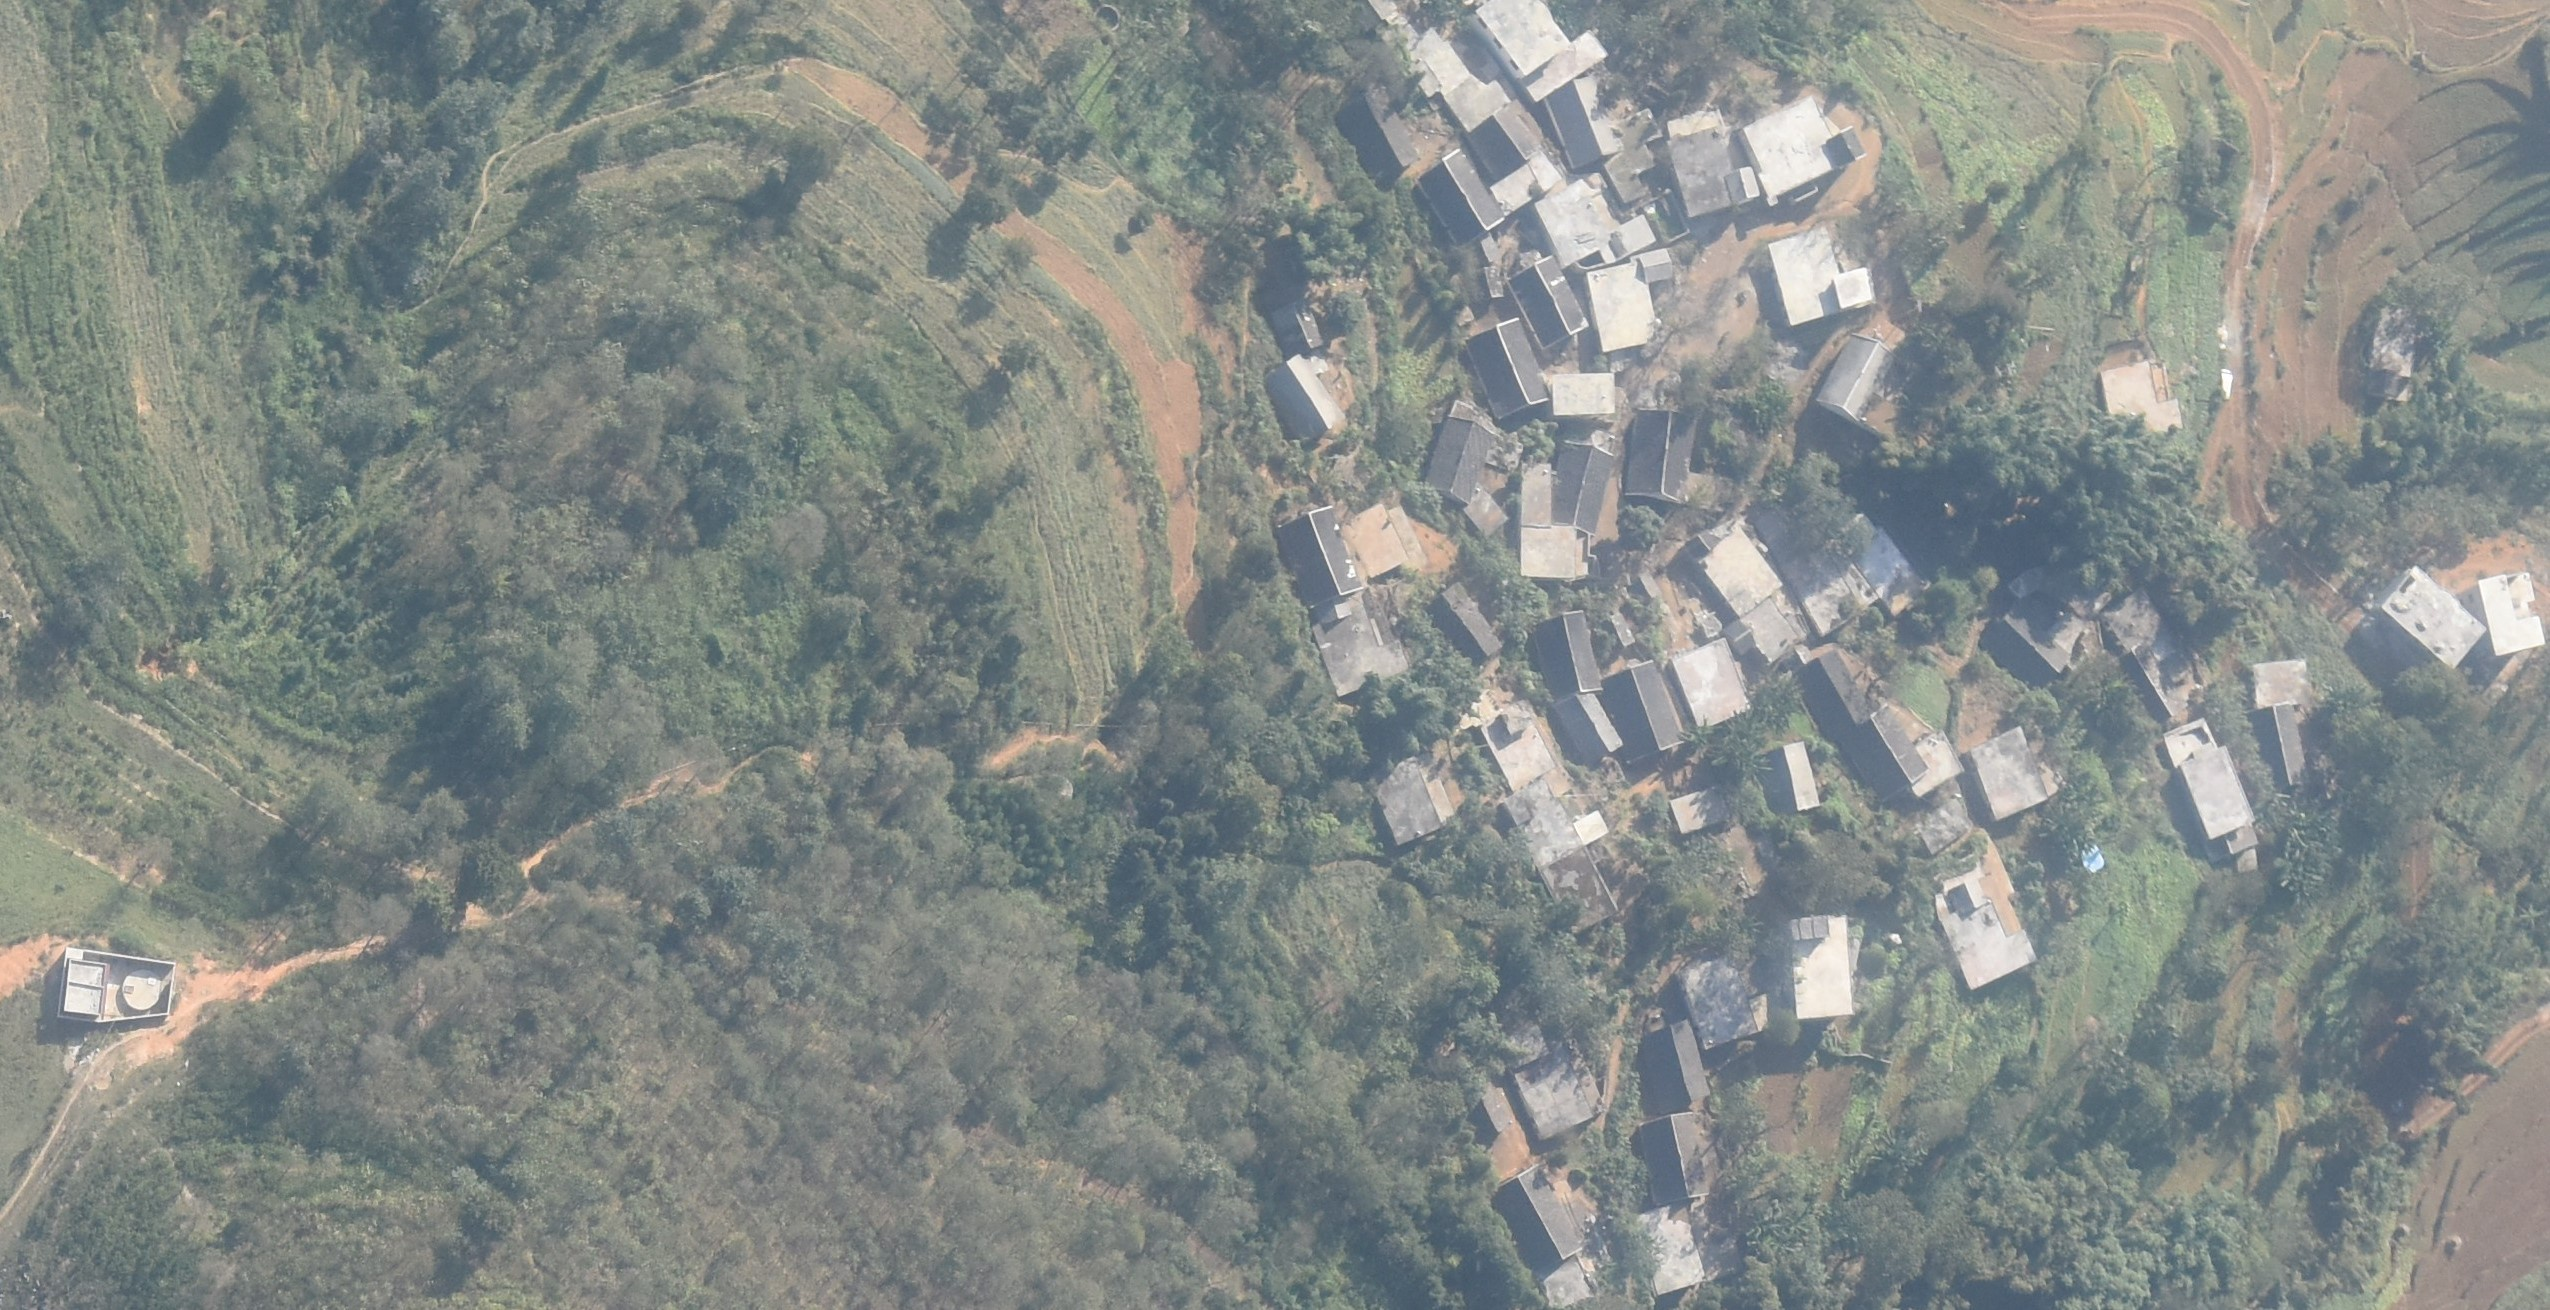building: (1505, 779, 1617, 934), (1753, 501, 1879, 638), (2164, 720, 2259, 871), (2099, 586, 2206, 718), (1743, 97, 1864, 204), (1476, 2, 1608, 99), (2383, 563, 2488, 670), (1309, 593, 1409, 698), (1768, 227, 1875, 326), (1939, 879, 2036, 988), (1536, 177, 1655, 266), (1505, 1028, 1593, 1140), (1588, 244, 1673, 354), (1496, 1166, 1583, 1272), (1688, 523, 1783, 617), (1844, 513, 1929, 617), (1668, 125, 1758, 221), (1416, 149, 1505, 246), (1601, 657, 1683, 759), (1465, 317, 1546, 418), (1278, 506, 1359, 605), (1506, 256, 1590, 351), (1670, 638, 1753, 730), (1545, 70, 1625, 165), (1847, 703, 1925, 799), (1682, 952, 1757, 1051), (1979, 603, 2071, 683), (1972, 725, 2051, 819), (1521, 461, 1581, 580), (1478, 700, 1555, 790), (1633, 1201, 1705, 1297), (1373, 754, 1444, 845), (1627, 408, 1698, 500), (1640, 1111, 1710, 1205), (1819, 334, 1894, 421), (1794, 912, 1854, 1018), (1266, 354, 1344, 433), (2102, 363, 2181, 441), (1428, 418, 1493, 506), (2477, 571, 2543, 657), (1338, 501, 1409, 580), (1429, 581, 1501, 660), (1555, 443, 1615, 536), (1804, 648, 1867, 735), (1610, 105, 1663, 206), (1540, 608, 1600, 695), (1470, 104, 1541, 175), (2248, 703, 2306, 787), (1558, 687, 1622, 760), (1366, 82, 1418, 165), (1899, 730, 1964, 795), (1491, 155, 1561, 214), (1740, 595, 1799, 662), (2371, 304, 2410, 404), (1667, 1018, 1710, 1104), (1271, 296, 1328, 354), (1667, 787, 1728, 834), (1550, 373, 1613, 416), (1783, 740, 1820, 812), (2254, 660, 2310, 707), (1915, 809, 1967, 852), (1466, 486, 1510, 538), (1478, 1089, 1515, 1133), (62, 984, 100, 1013), (1610, 612, 1637, 650), (1483, 264, 1508, 296), (1638, 566, 1662, 597), (68, 966, 105, 984), (1481, 231, 1500, 261)
well: (120, 971, 164, 1009)
